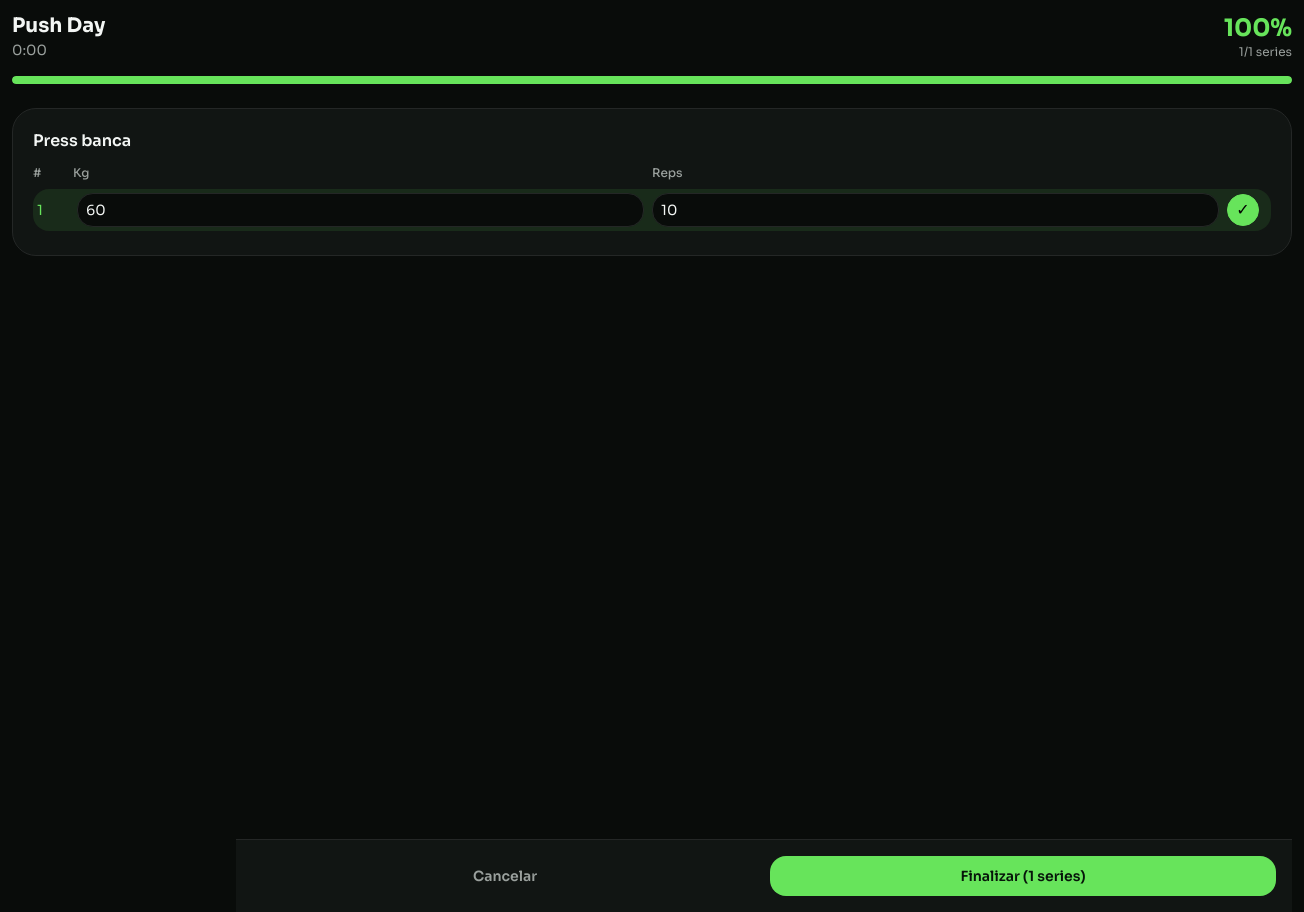
Test case: gym/activo — guardado fallido (D2) › G1: muestra la frase de tranquilidad y sessionStorage conserva las series
The width and height of the screenshot is (1304, 912).
Click the button "Finalizar (1 series)": coordinates (1023, 876) 770,856 -> 1276,896
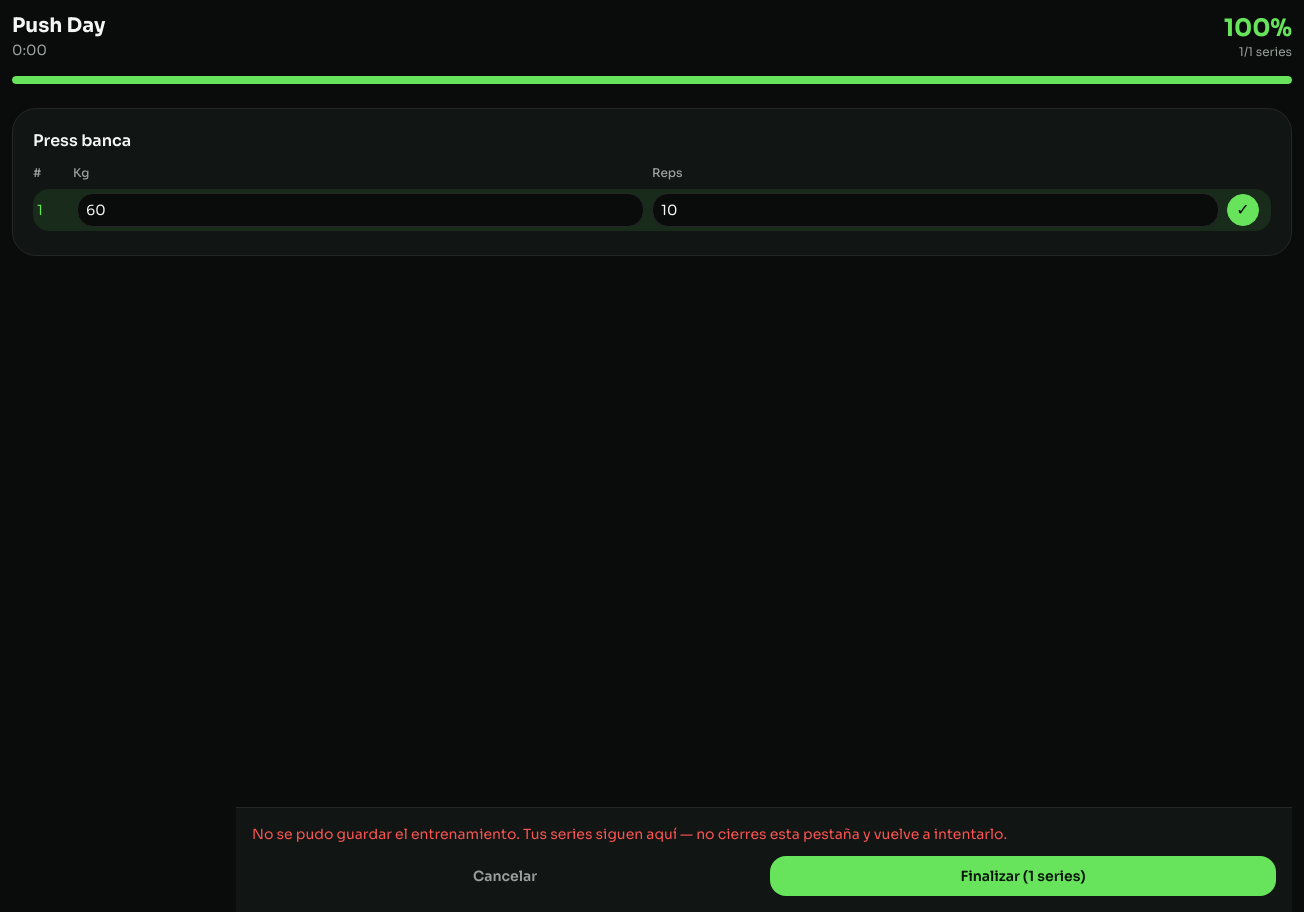
Result: the text "No se pudo guardar el entrenamiento. Tus series siguen aquí — no cierres esta pestaña y vuelve a intentarlo." is shown at 252,825 -> 1007,843
